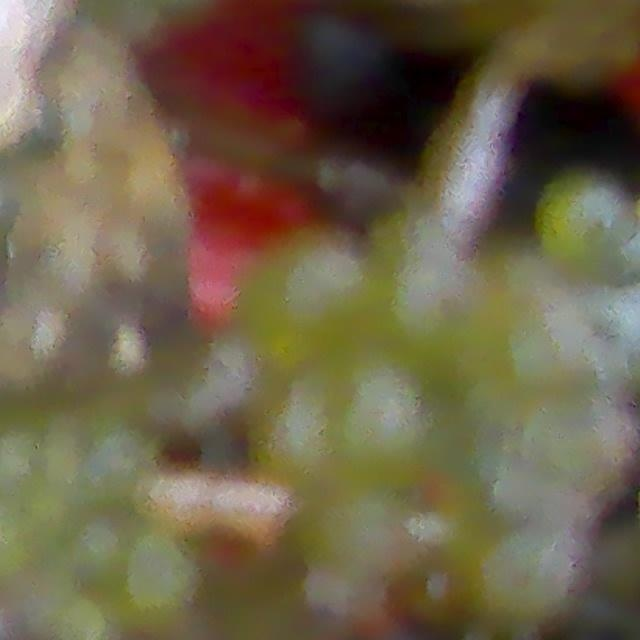SeaGrape: (315, 343, 445, 481), (50, 392, 161, 515), (288, 1, 391, 100), (58, 512, 142, 597)
